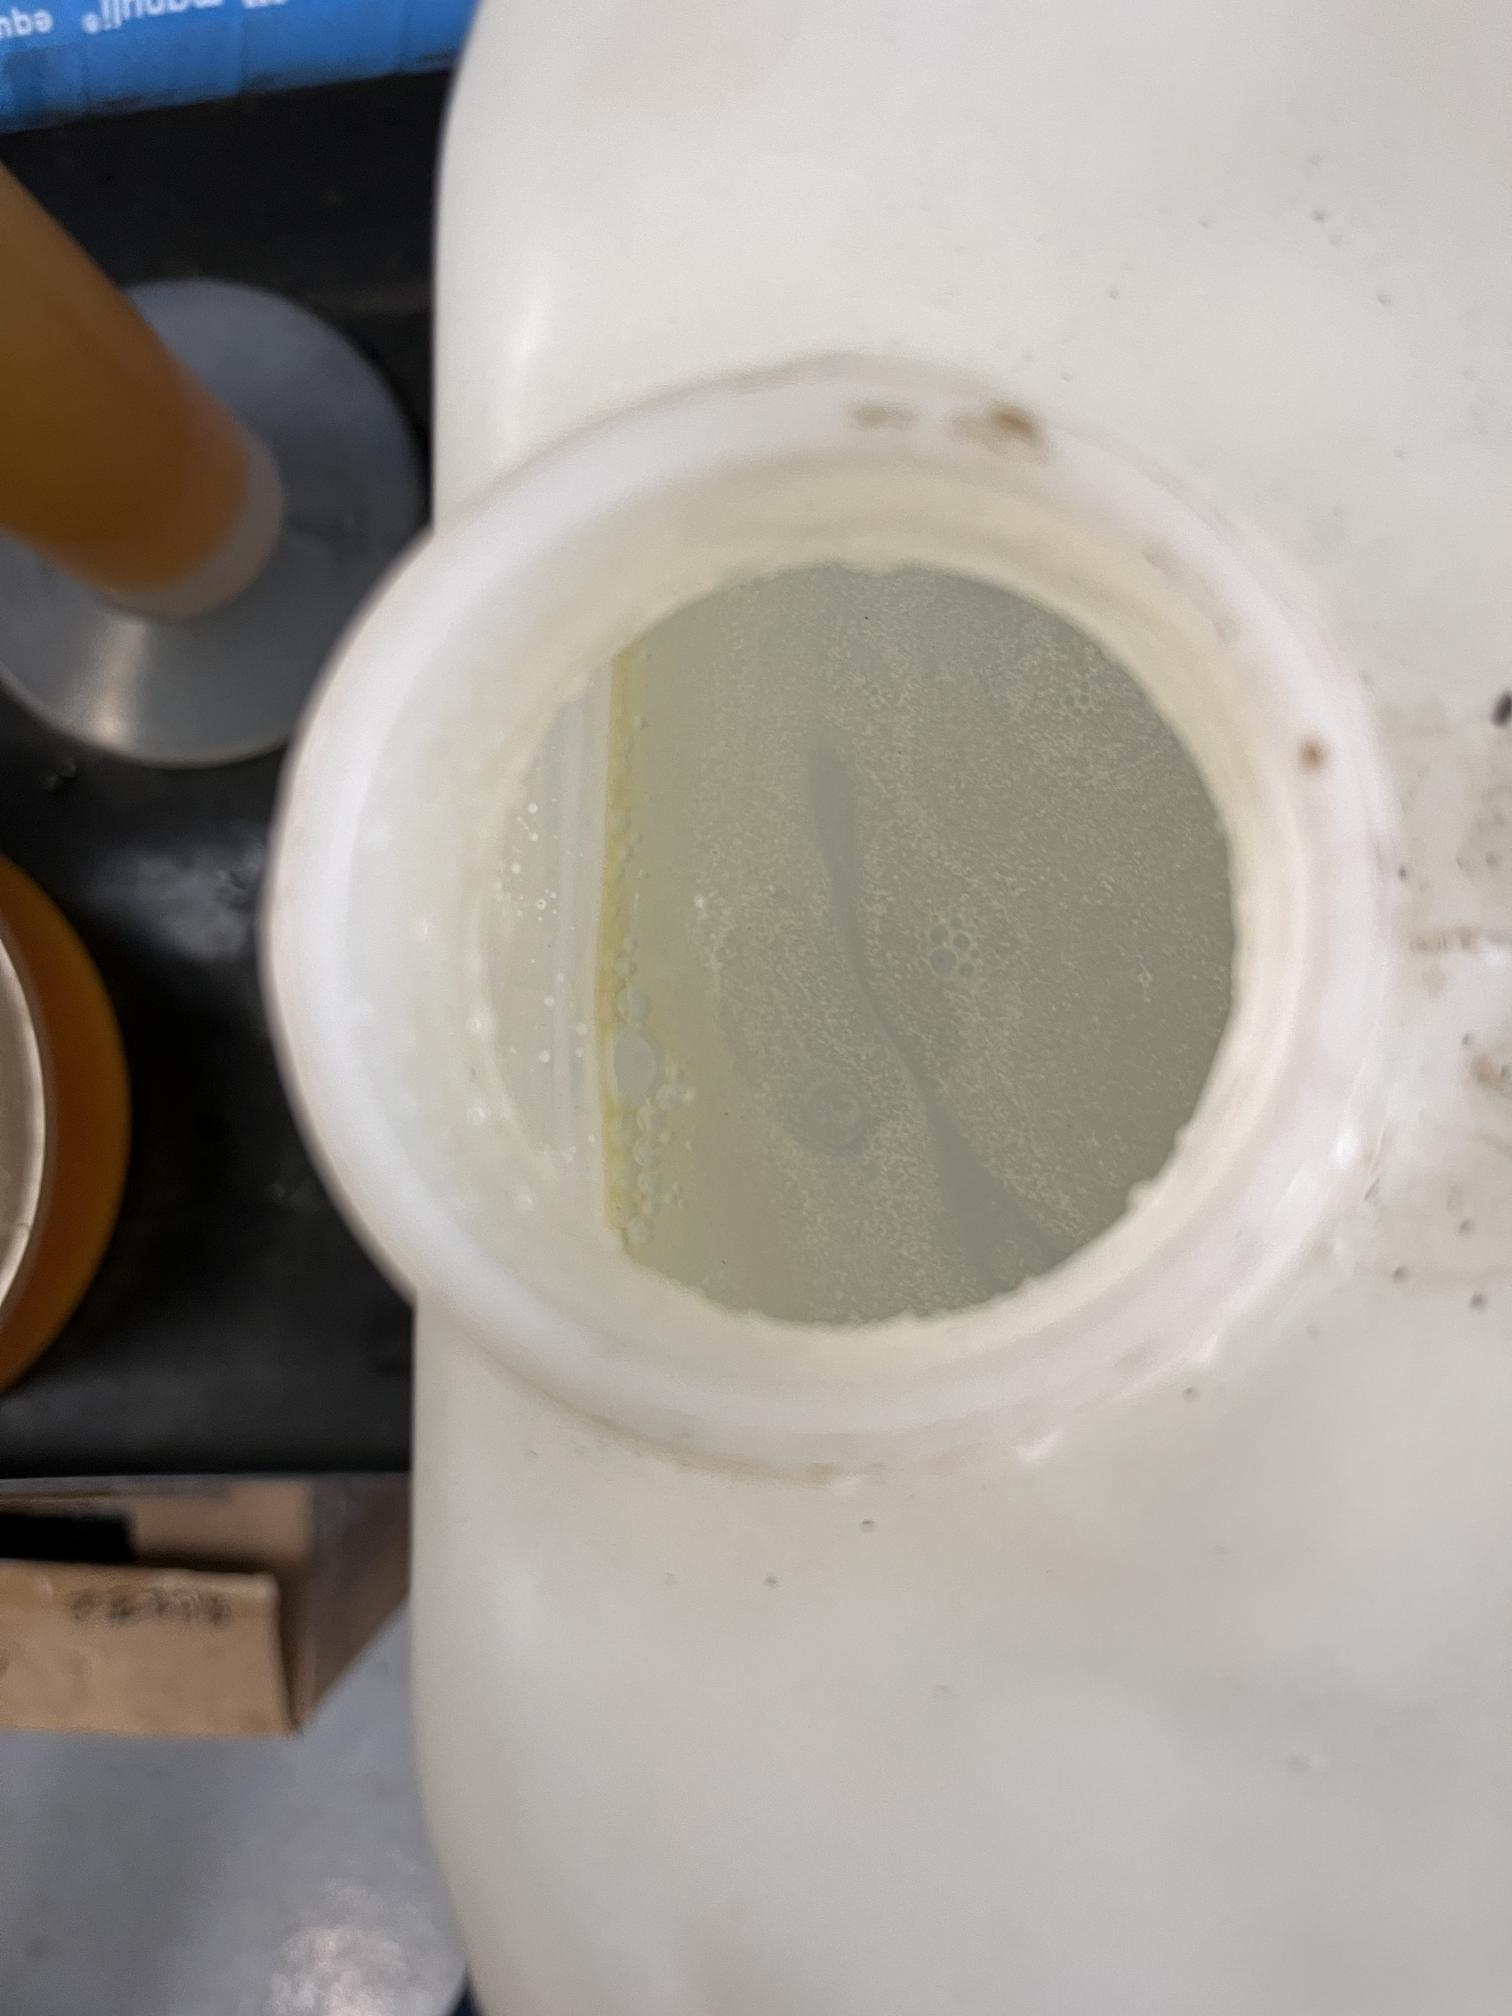Presenca de Oleo - - 20ml: (314, 444, 1345, 1456)
